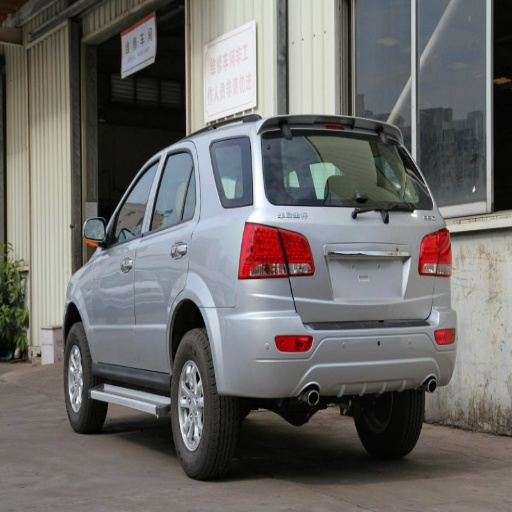back_bumper: (208, 277, 457, 399)
back_glass: (212, 129, 429, 206)
back_left_door: (136, 147, 198, 376)
tailgate: (341, 207, 431, 319)
trunk: (283, 210, 435, 325)
